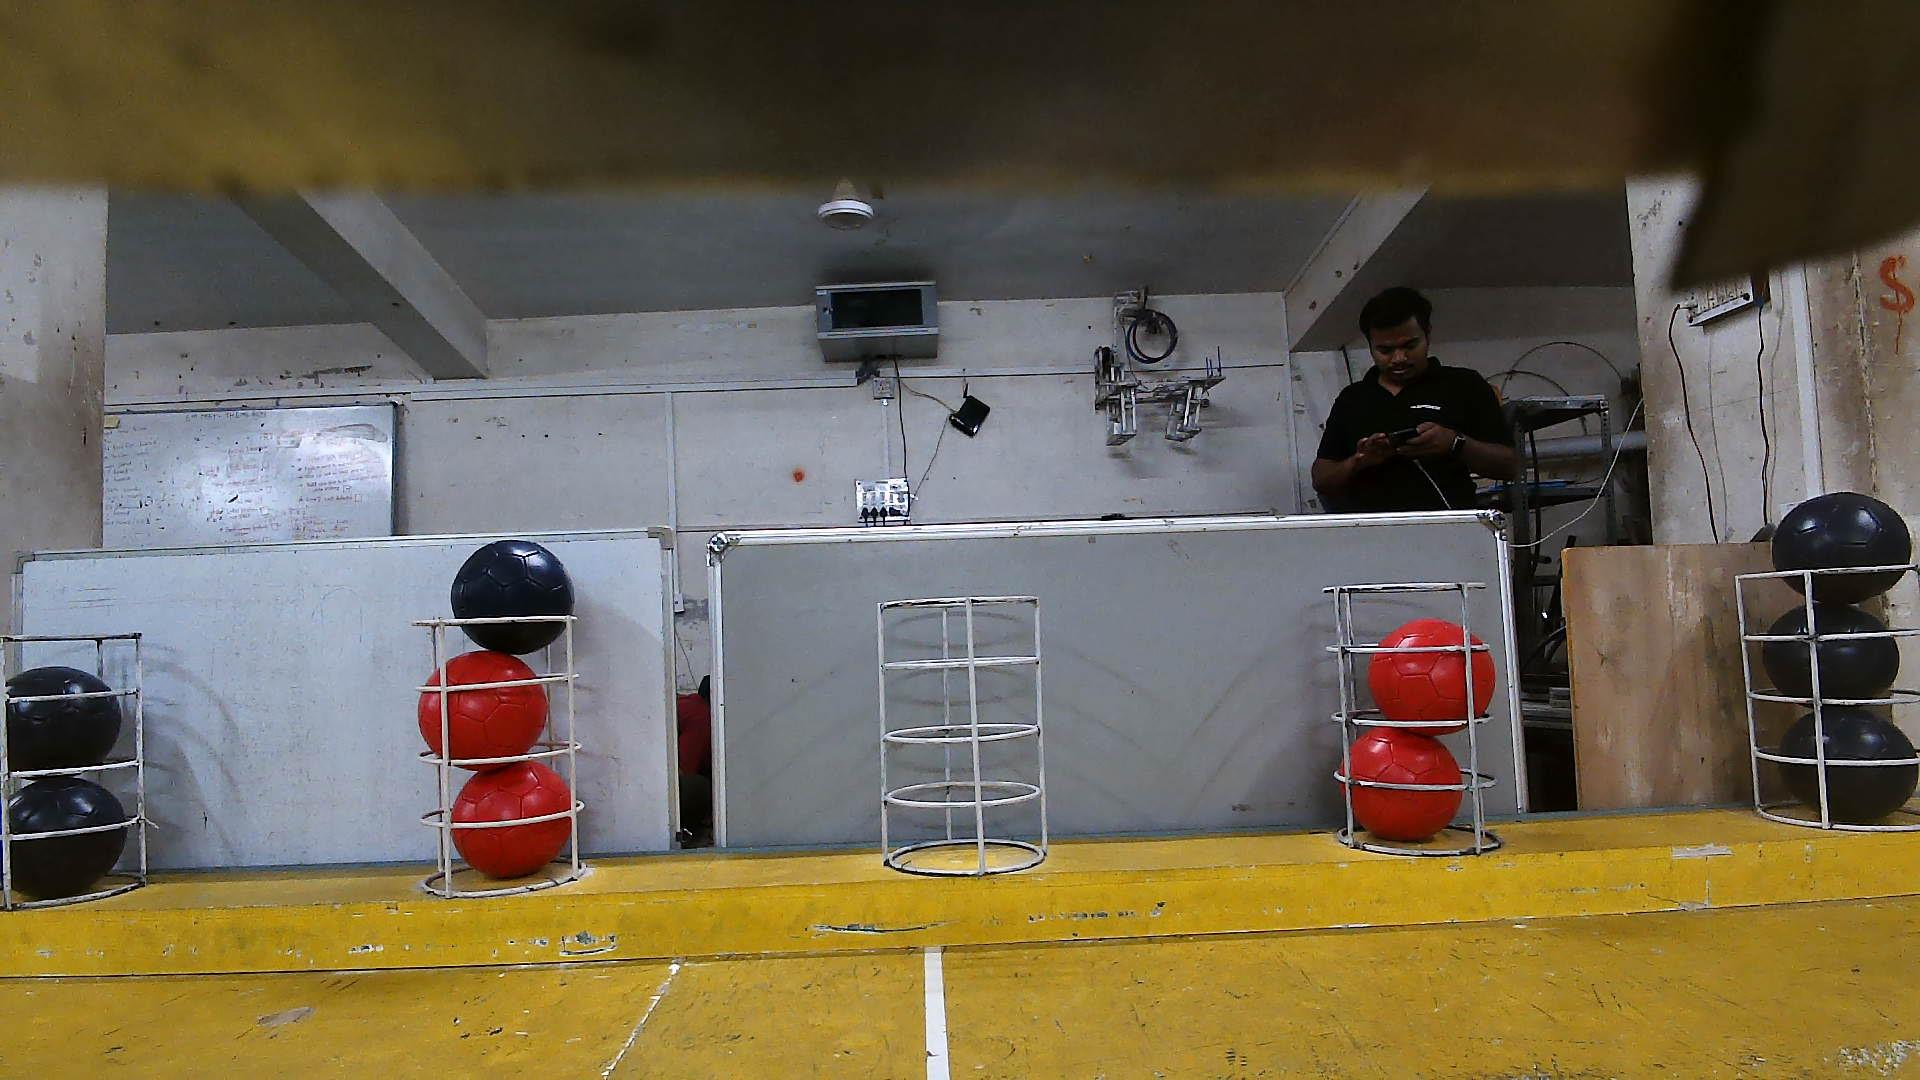dhoka: (1770, 493, 1911, 603), (1782, 705, 1919, 815), (8, 777, 128, 897), (451, 541, 574, 655), (1764, 604, 1900, 700), (4, 666, 121, 770)
laale: (451, 764, 574, 880), (419, 650, 547, 758), (1346, 729, 1461, 844), (1371, 621, 1494, 727)
